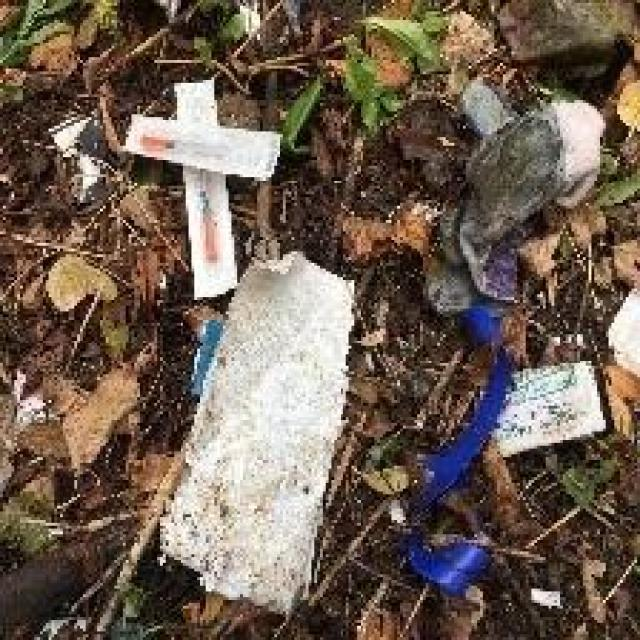syringe: (127, 108, 309, 194), (172, 87, 248, 288)
